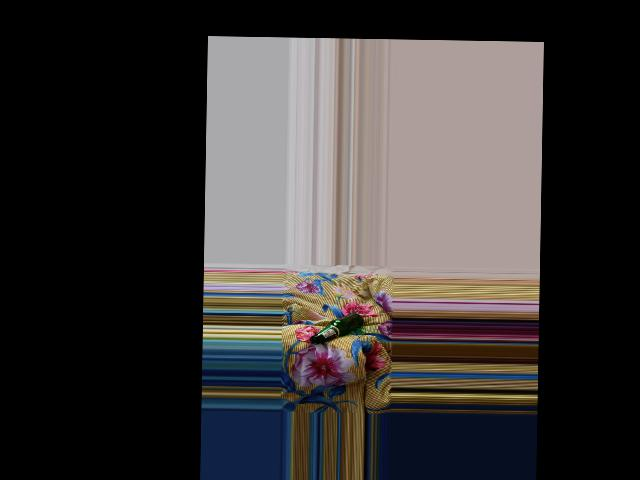beer: (310, 313, 363, 345)
